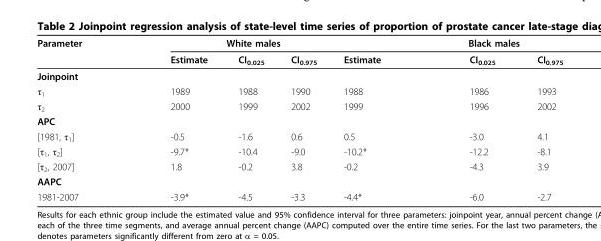table: (36, 36, 562, 201)
table column: (125, 36, 222, 201), (329, 36, 424, 201), (424, 36, 515, 201), (36, 36, 125, 201), (222, 36, 276, 201), (276, 36, 329, 201), (515, 36, 562, 201)
table column header: (36, 36, 562, 67)
table projected row header: (36, 67, 562, 83), (36, 113, 562, 128), (36, 174, 562, 188)
table row: (36, 50, 562, 67), (36, 67, 562, 83), (36, 158, 562, 174), (36, 83, 562, 98), (36, 98, 562, 113), (36, 113, 562, 128), (36, 128, 562, 143), (36, 143, 562, 158), (36, 36, 562, 50), (36, 174, 562, 188), (36, 188, 562, 201)
table spanning cell: (329, 36, 562, 50), (125, 36, 329, 50), (36, 36, 125, 67)
